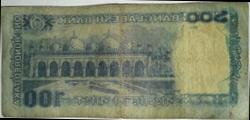100 taka: (0, 5, 247, 118)
